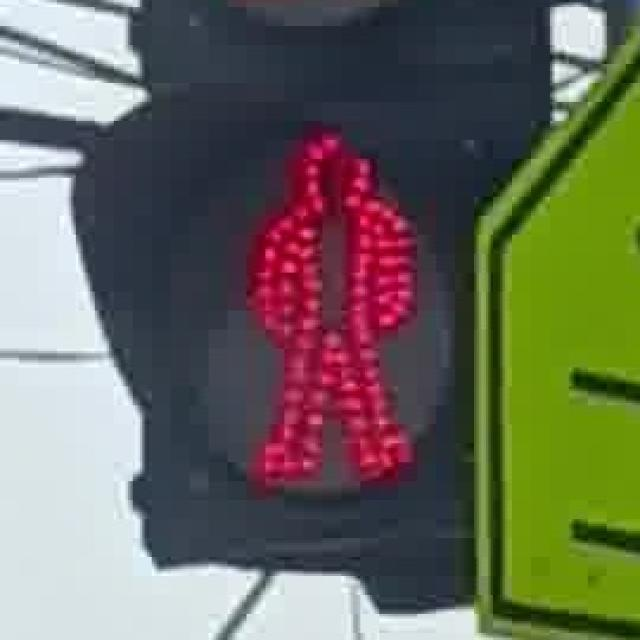red_light: (213, 107, 436, 505)
